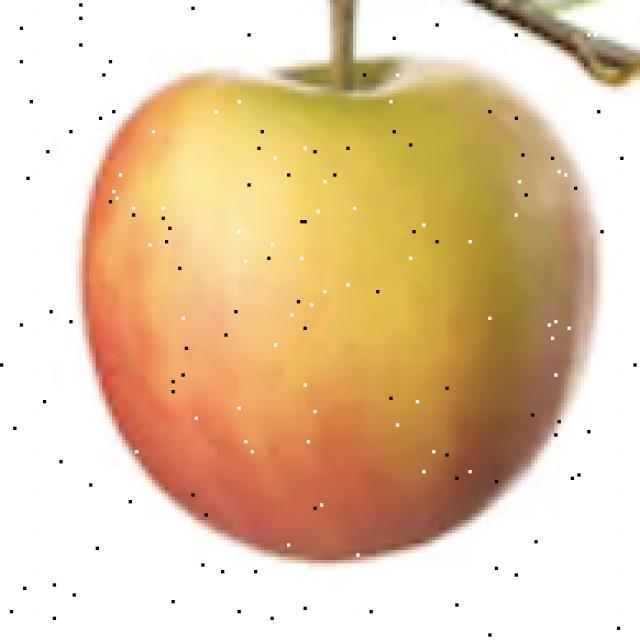Fresh Apple: (103, 70, 602, 558)
